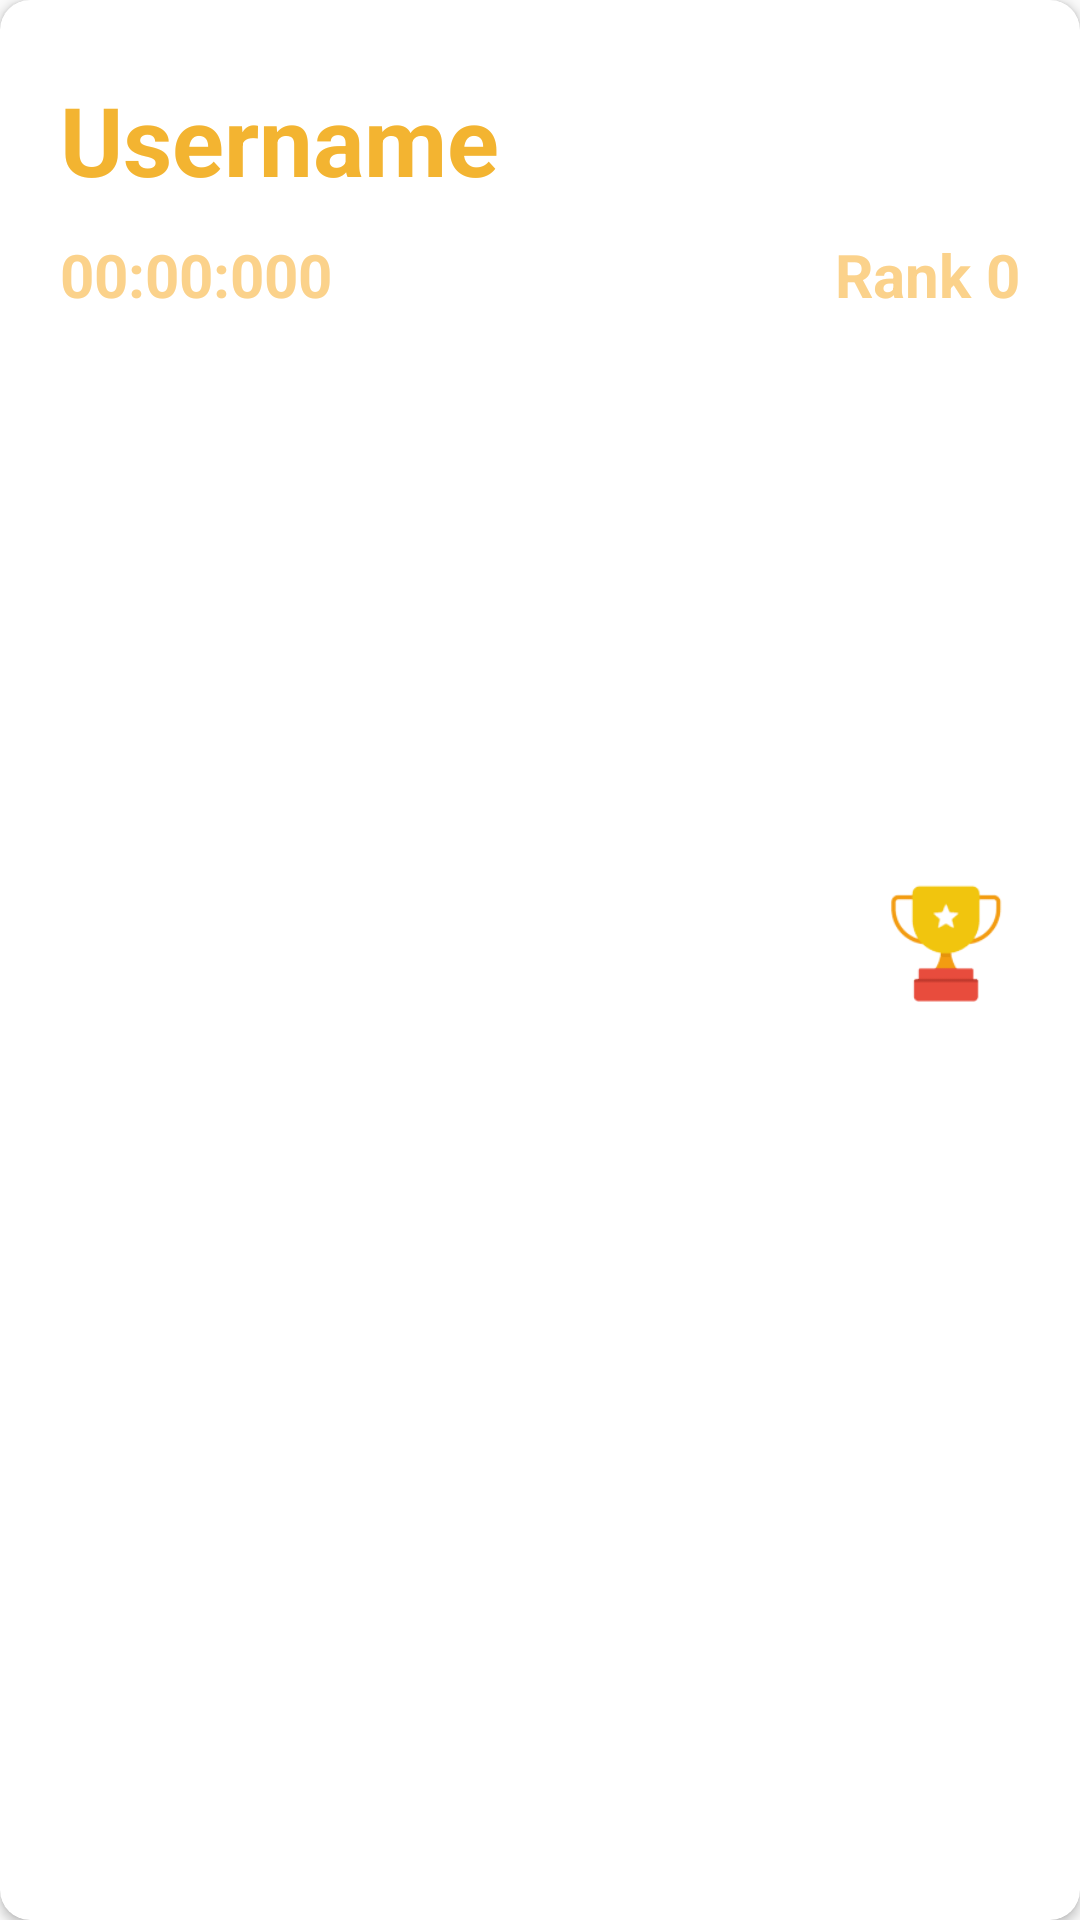

Point at icon controls on the screen. Image size 1080px x 1920px, points as (x,y).
gold: (946,943)
